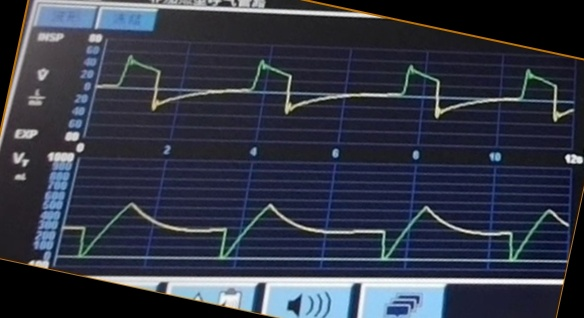Flow: (104, 51, 560, 134)
Leakage Volume: (71, 190, 561, 274)
